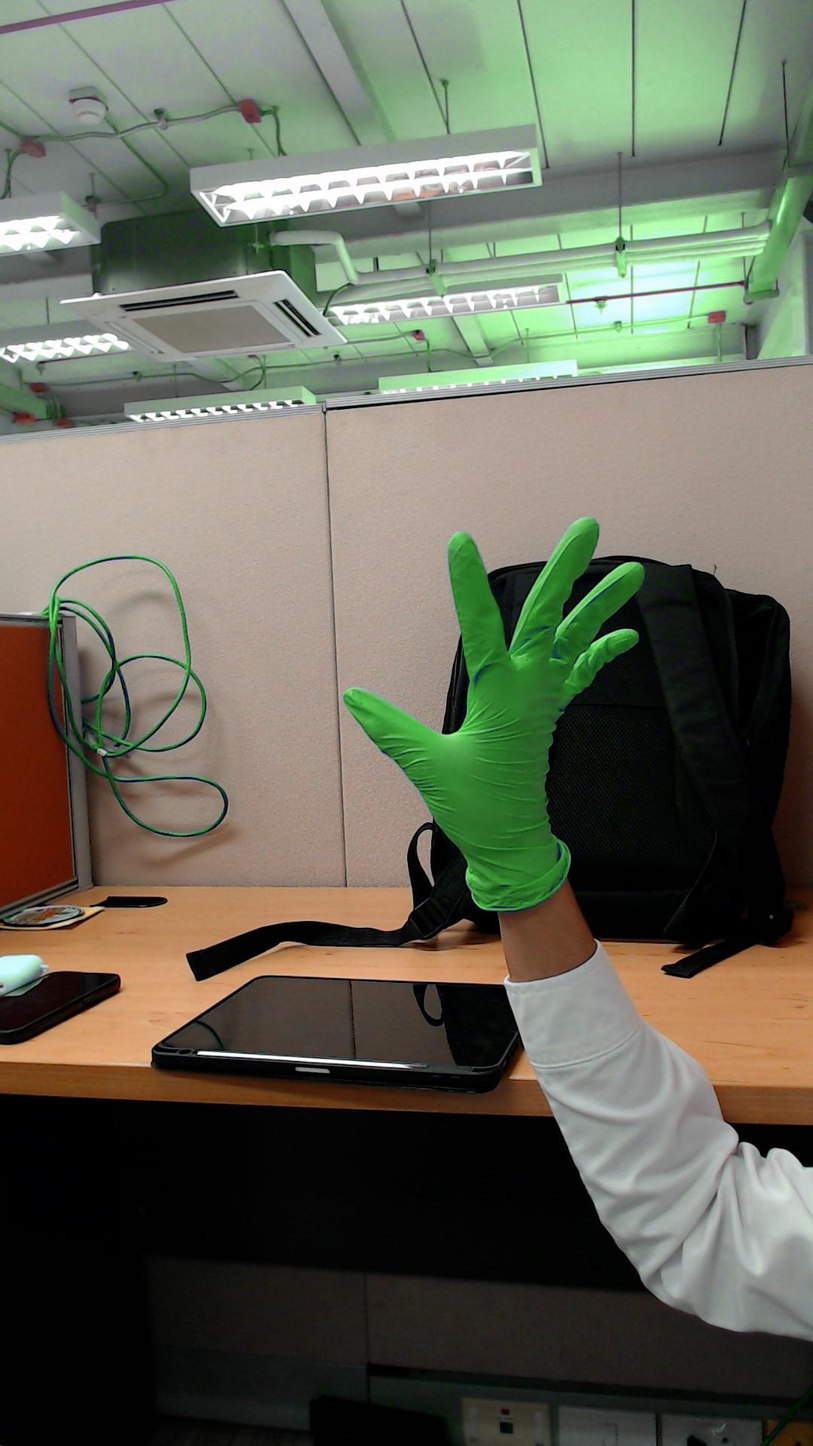gloves: (329, 501, 652, 828)
